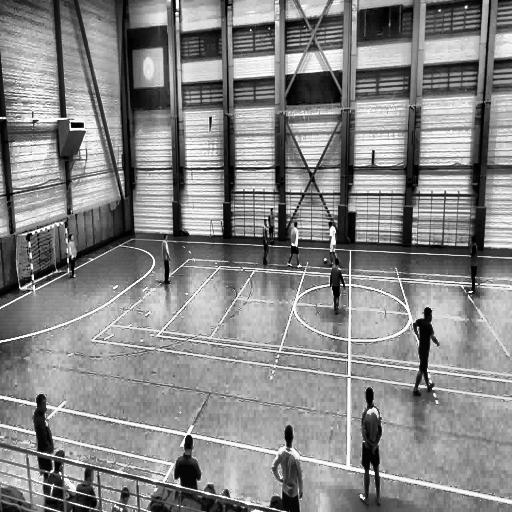ball: (324, 256, 329, 263)
player: (356, 390, 382, 505), (273, 425, 303, 512), (409, 308, 436, 394), (34, 396, 54, 494), (331, 256, 346, 314), (288, 222, 300, 269), (66, 234, 78, 278), (469, 234, 478, 292), (162, 233, 171, 284), (328, 220, 337, 265), (262, 217, 270, 265), (268, 208, 274, 243)
